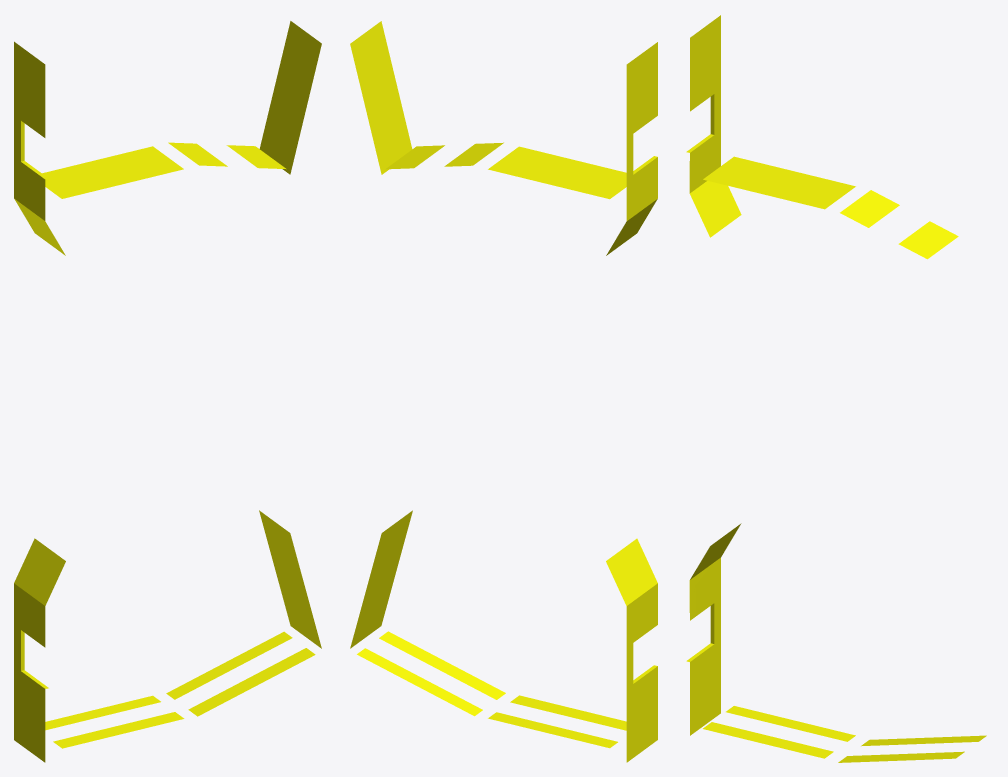
The model's file is walls3.gltf.
3 renders of one model, left to right at view 1: azimuth 30°, elevation 25°; view 2: azimuth 150°, elevation 25°; view 3: azimuth 330°, elevation 25°, orthographic.
Parts seen in each view (by area): view 1: Box135; view 2: Box135; view 3: Box135.
Boxes of the visible parts, bbox=[...] form: Box135: bbox=[14, 21, 321, 762]; Box135: bbox=[350, 21, 657, 762]; Box135: bbox=[686, 15, 986, 762].
Size of the model in its own units: 38.75 by 93.53 by 7.69.
Materials: 1 (1 with a texture image).
